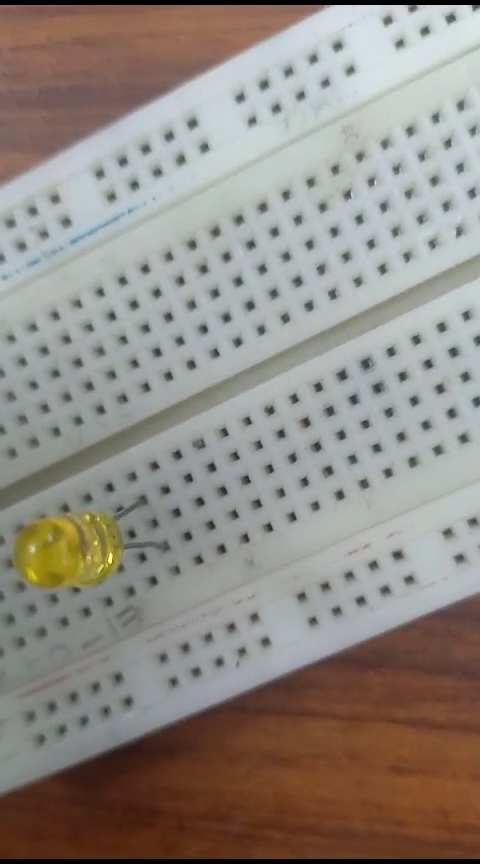LED: (18, 496, 163, 588)
